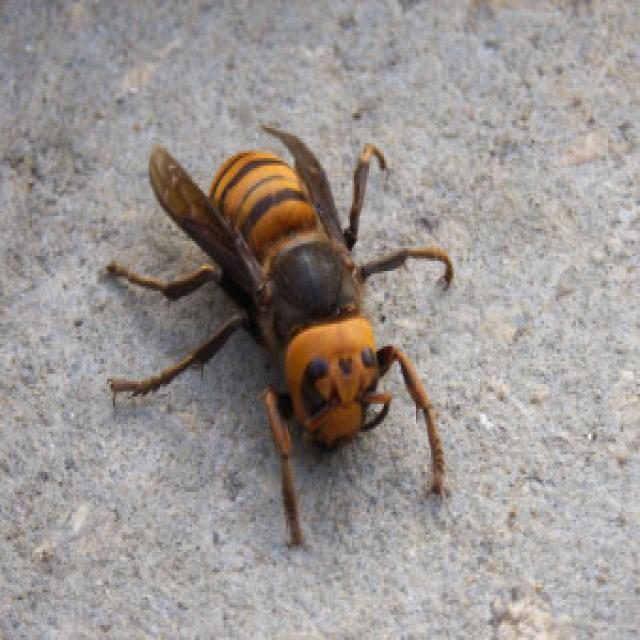Wasp: (95, 125, 459, 551)
